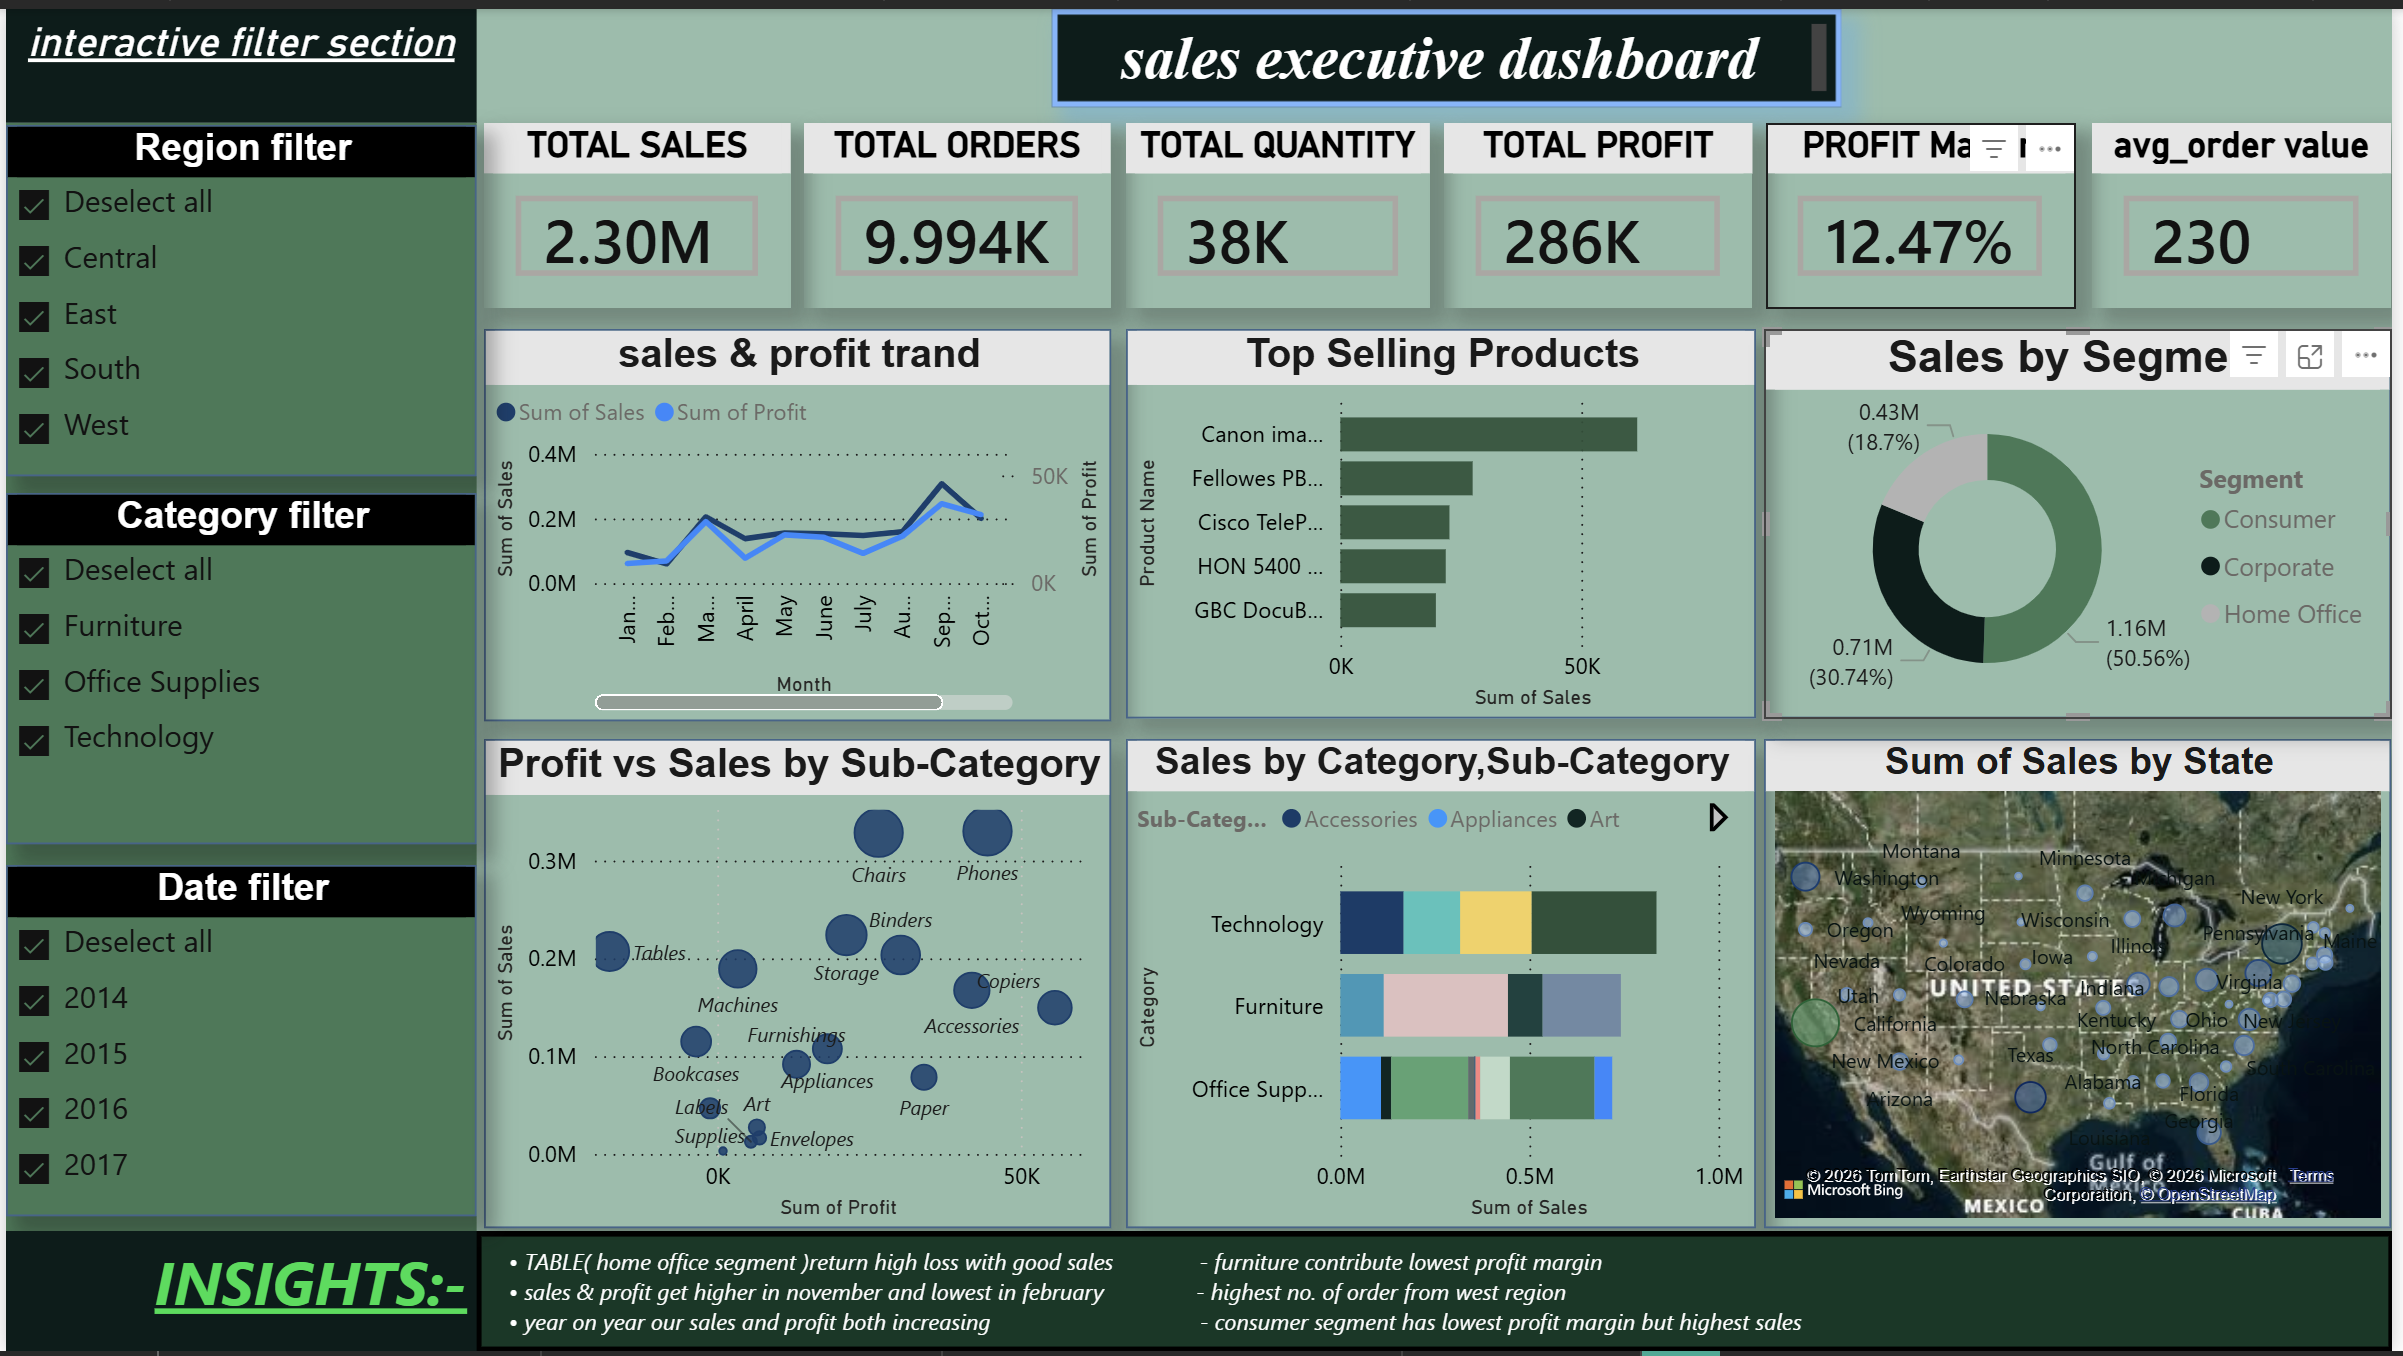

The page's visual inventory and layout, read from the dashboard file:
{"tool":"powerbi","page":{"name":"Sales executive dedshboard","canvas":[1280,720],"ordinal":0},"visuals":[{"type":"cardVisual","title":"TOTAL SALES","fields":{"Data":["Sum(Sample - Superstore csv.Sales)"]},"box":[256.3,61.2,164.5,99.4],"z":0},{"type":"textbox","box":[561,0,423.3,52.3],"z":1000},{"type":"cardVisual","title":"TOTAL ORDERS","fields":{"Data":["CountNonNull(Sample - Superstore csv.Order ID)"]},"box":[428.4,61.2,164.5,99.4],"z":2000},{"type":"cardVisual","title":"TOTAL QUANTITY","fields":{"Data":["Sum(Sample - Superstore csv.Quantity)"]},"box":[600.5,61.2,163.2,99.4],"z":3000},{"type":"cardVisual","title":"TOTAL PROFIT","fields":{"Data":["Sum(Sample - Superstore csv.Profit)"]},"box":[771.3,61.2,165.7,99.4],"z":4000},{"type":"cardVisual","title":"PROFIT  Margin","fields":{"Data":["Sample - Superstore csv.PROFIT_MARGIN"]},"box":[944.7,61.2,165.7,99.4],"z":5000},{"type":"textbox","box":[0,61.2,252.4,596.7],"z":6000},{"type":"cardVisual","title":"avg_order value","fields":{"Data":["Sample - Superstore csv.avg_order_value"]},"box":[1119.4,61.2,160.6,99.4],"z":7000},{"type":"lineChart","title":"sales & profit trand ","fields":{"Category":["Sample - Superstore csv.Order Date.Variation.Date Hierarchy.Year","Sample - Superstore csv.Order Date.Variation.Date Hierarchy.Month"],"Y":["Sum(Sample - Superstore csv.Sales)"],"Y2":["Sum(Sample - Superstore csv.Profit)"]},"box":[256.3,172.1,336.6,210.4],"z":8000},{"type":"barChart","title":"Top Selling Products","fields":{"Category":["Sample - Superstore csv.Product Name"],"Y":["Sum(Sample - Superstore csv.Sales)"]},"box":[600.5,172.1,337.8,209.1],"z":9000},{"type":"donutChart","title":"Sales by Segment","fields":{"Category":["Sample - Superstore csv.Segment"],"Y":["Sum(Sample - Superstore csv.Sales)"]},"box":[943.4,172.1,336.6,209.1],"z":10000},{"type":"scatterChart","title":"Profit vs Sales by Sub-Category","fields":{"Y":["Sum(Sample - Superstore csv.Sales)"],"X":["Sum(Sample - Superstore csv.Profit)"],"Size":["Sum(Sample - Superstore csv.Sales)"],"Category":["Sample - Superstore csv.Sub-Category"]},"box":[256.3,391.4,336.6,262.6],"z":11000},{"type":"barChart","title":"Sales by Category,Sub-Category","fields":{"Y":["Sum(Sample - Superstore csv.Sales)"],"Category":["Sample - Superstore csv.Category"],"Series":["Sample - Superstore csv.Sub-Category"]},"box":[600.5,391.4,337.8,262.6],"z":12000},{"type":"actionButton","box":[0,0,100,40],"z":13000},{"type":"map","fields":{"Category":["Sample - Superstore csv.State"],"Size":["Sum(Sample - Superstore csv.Sales)"]},"box":[943.4,391.4,336.6,262.6],"z":14000},{"type":"listSlicer","title":"Region filter","fields":{"Values":["Sample - Superstore csv.Region"]},"box":[0,62.5,252.4,188.7],"z":15000},{"type":"listSlicer","title":"Category filter","fields":{"Values":["Sample - Superstore csv.Category"]},"box":[0,260.1,252.4,188.7],"z":16000},{"type":"textbox","box":[252.4,655.3,1028.8,65],"z":17000},{"type":"listSlicer","title":"Date filter","fields":{"Values":["Sample - Superstore csv.Order Date.Variation.Date Hierarchy.Year"]},"box":[0,459,252.4,188.7],"z":18000},{"type":"textbox","box":[0,0,252.4,61.2],"z":19000},{"type":"textbox","box":[0,655.3,252.4,65],"z":20000}]}

Visuals, with their boxes in screenshot pixels (x1, y1, x2, y2), scaled from the page's 1280x720 canvas onto the 2403x1356 screenshot:
"TOTAL SALES" cardVisual: l=481, t=115, r=790, b=302
textbox: l=1053, t=0, r=1848, b=98
"TOTAL ORDERS" cardVisual: l=804, t=115, r=1113, b=302
"TOTAL QUANTITY" cardVisual: l=1127, t=115, r=1434, b=302
"TOTAL PROFIT" cardVisual: l=1448, t=115, r=1759, b=302
"PROFIT  Margin" cardVisual: l=1774, t=115, r=2085, b=302
textbox: l=0, t=115, r=474, b=1239
"avg_order value" cardVisual: l=2101, t=115, r=2402, b=302
"sales & profit trand " lineChart: l=481, t=324, r=1113, b=720
"Top Selling Products" barChart: l=1127, t=324, r=1762, b=718
"Sales by Segment" donutChart: l=1771, t=324, r=2402, b=718
"Profit vs Sales by Sub-Category" scatterChart: l=481, t=737, r=1113, b=1232
"Sales by Category,Sub-Category" barChart: l=1127, t=737, r=1762, b=1232
actionButton: l=0, t=0, r=188, b=75
map - Sample - Superstore csv.State x Sum(Sample - Superstore csv.Sales): l=1771, t=737, r=2402, b=1232
"Region filter" listSlicer: l=0, t=118, r=474, b=473
"Category filter" listSlicer: l=0, t=490, r=474, b=845
textbox: l=474, t=1234, r=2402, b=1355
"Date filter" listSlicer: l=0, t=864, r=474, b=1220
textbox: l=0, t=0, r=474, b=115
textbox: l=0, t=1234, r=474, b=1355
